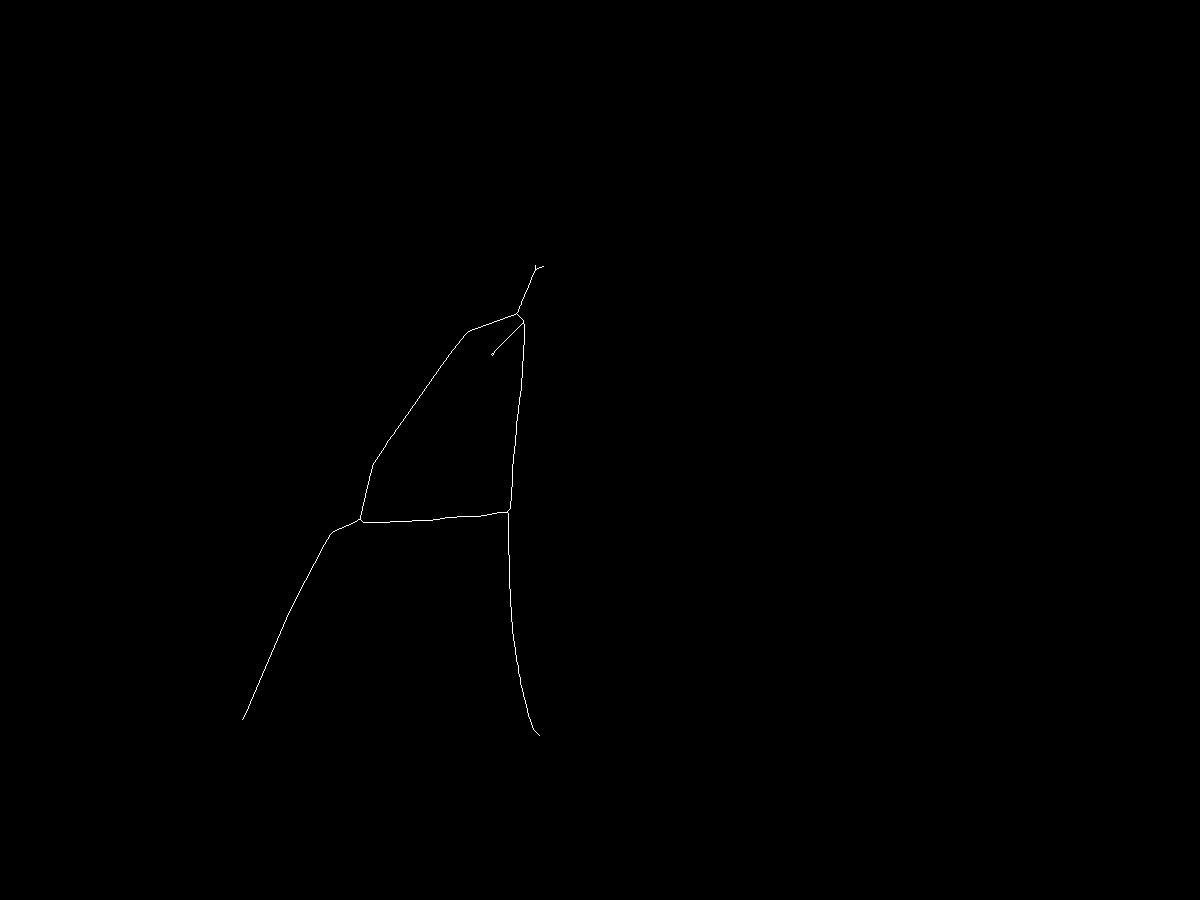dian1: (511, 308, 523, 320)
dian2: (357, 509, 372, 524)
dian3: (234, 708, 253, 727)
dian4: (499, 508, 519, 528)
dian5: (529, 728, 545, 744)
